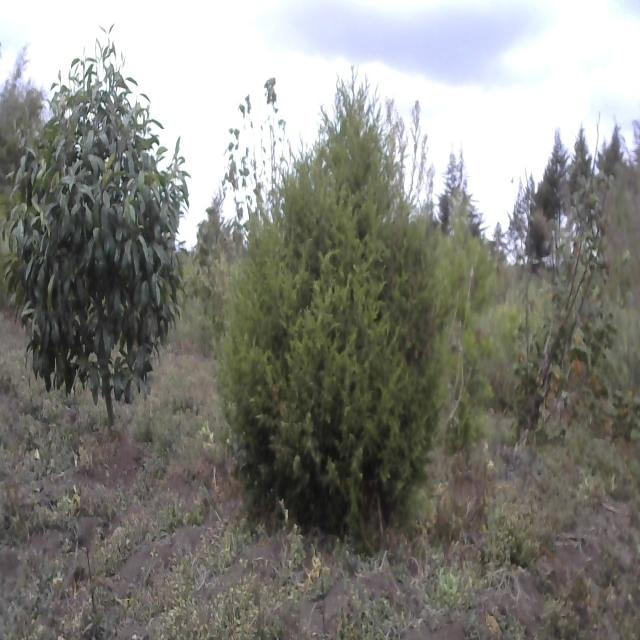Juniperus procesera: (224, 86, 443, 516), (599, 115, 632, 245), (539, 117, 570, 250), (440, 142, 481, 238), (571, 122, 598, 253)
Prunus Africana: (17, 34, 191, 434)
